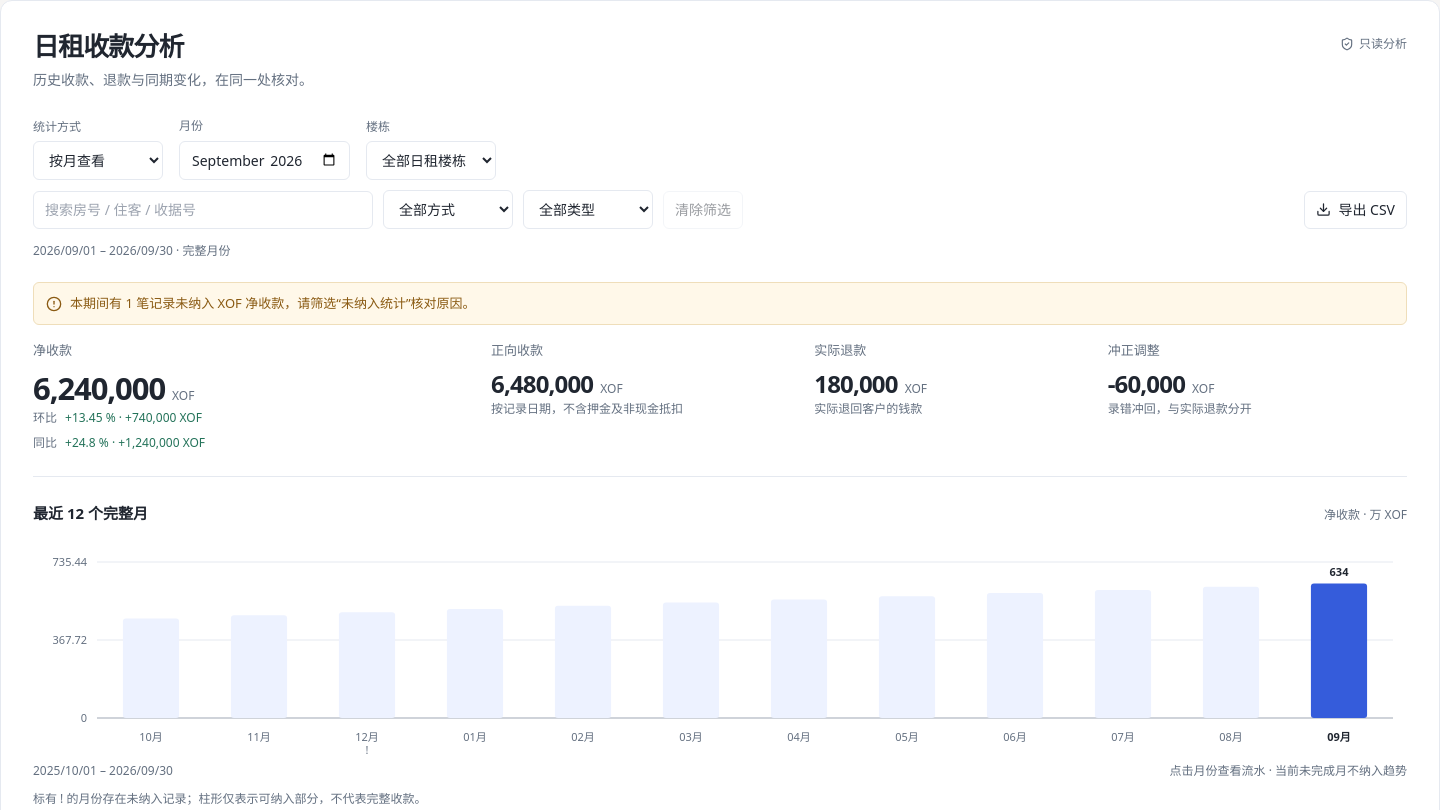
Test case: daily receipt history UI › aborts outdated requests and ignores late stale successful responses
Select "现金" in the dropdown named "收款方式": (448,210) [383,190,513,229]
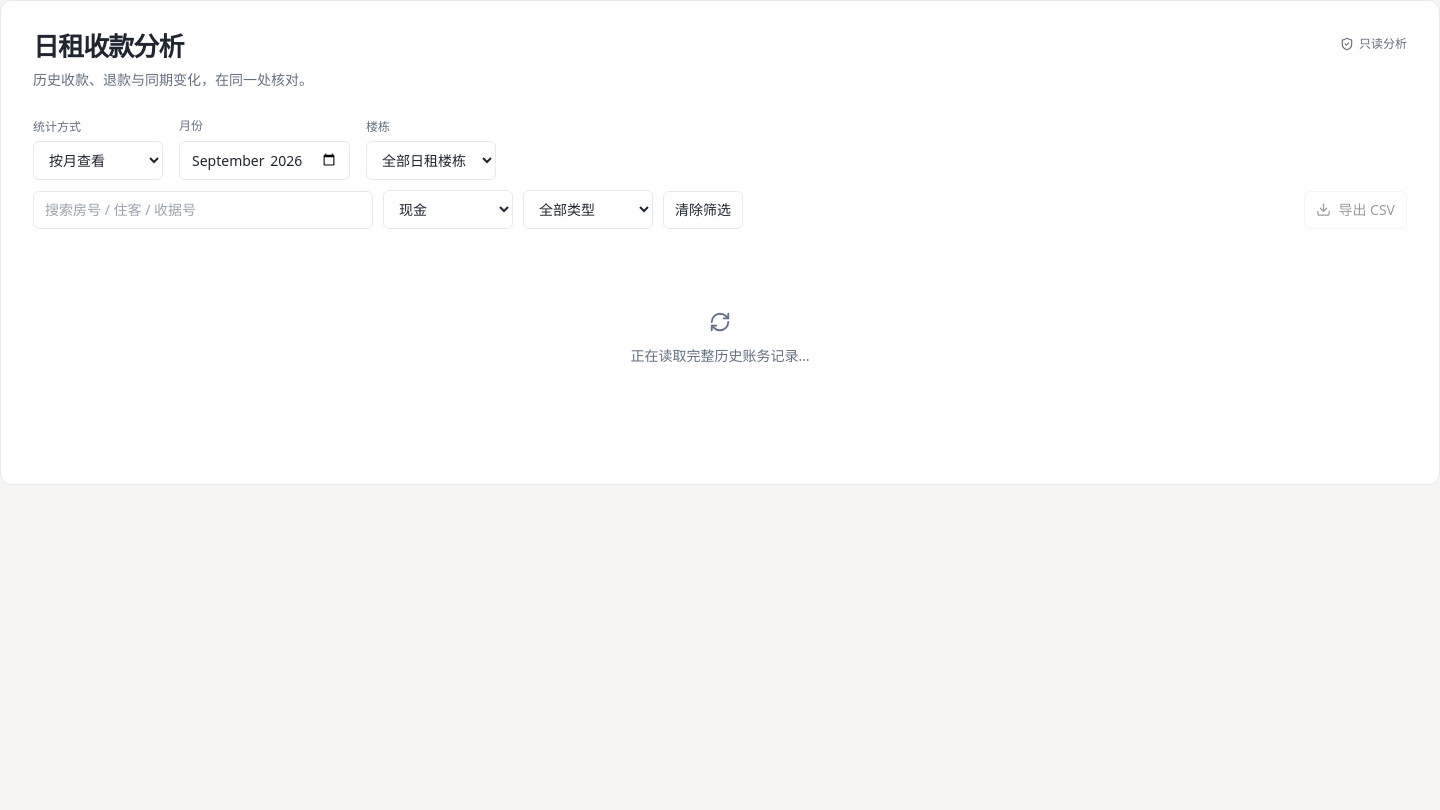
Select "支票" in the dropdown named "收款方式": (448,210) [383,190,513,229]
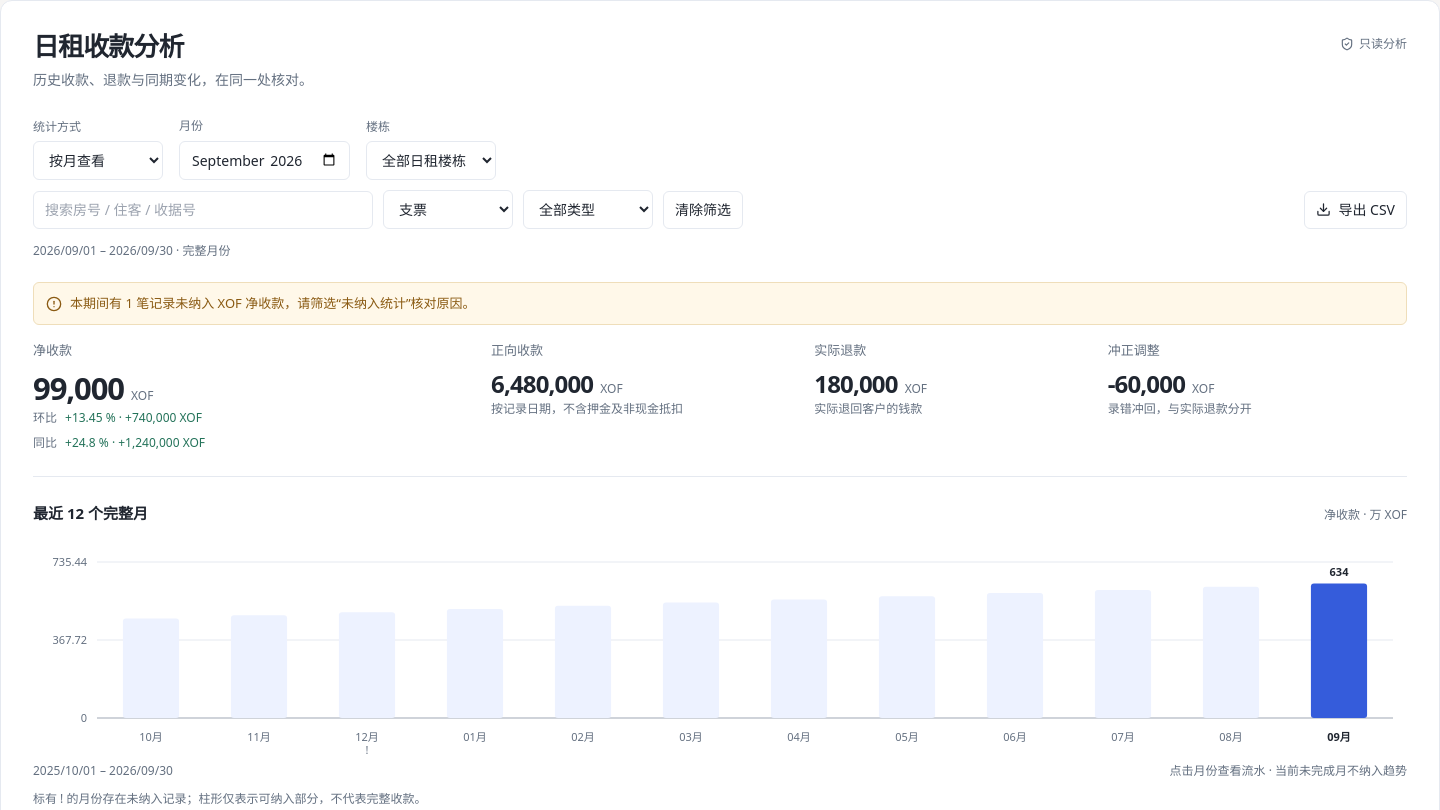
Check: the text "6,240,000" is not shown
Check: the text "99,000" is shown, box [33,367,124,409]
